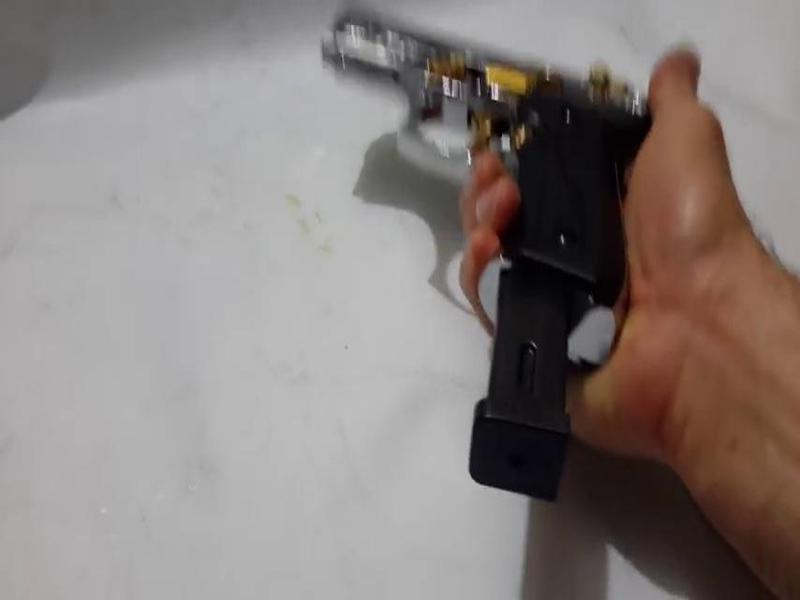Pistola: (289, 1, 653, 315)
